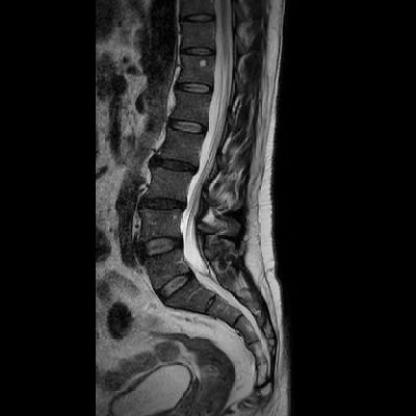Degenerative Disc Diseaserotation: (140, 195, 185, 215), (154, 156, 200, 175)
Disc Bulgerotation: (138, 236, 181, 260), (140, 195, 185, 215), (155, 156, 201, 175)
